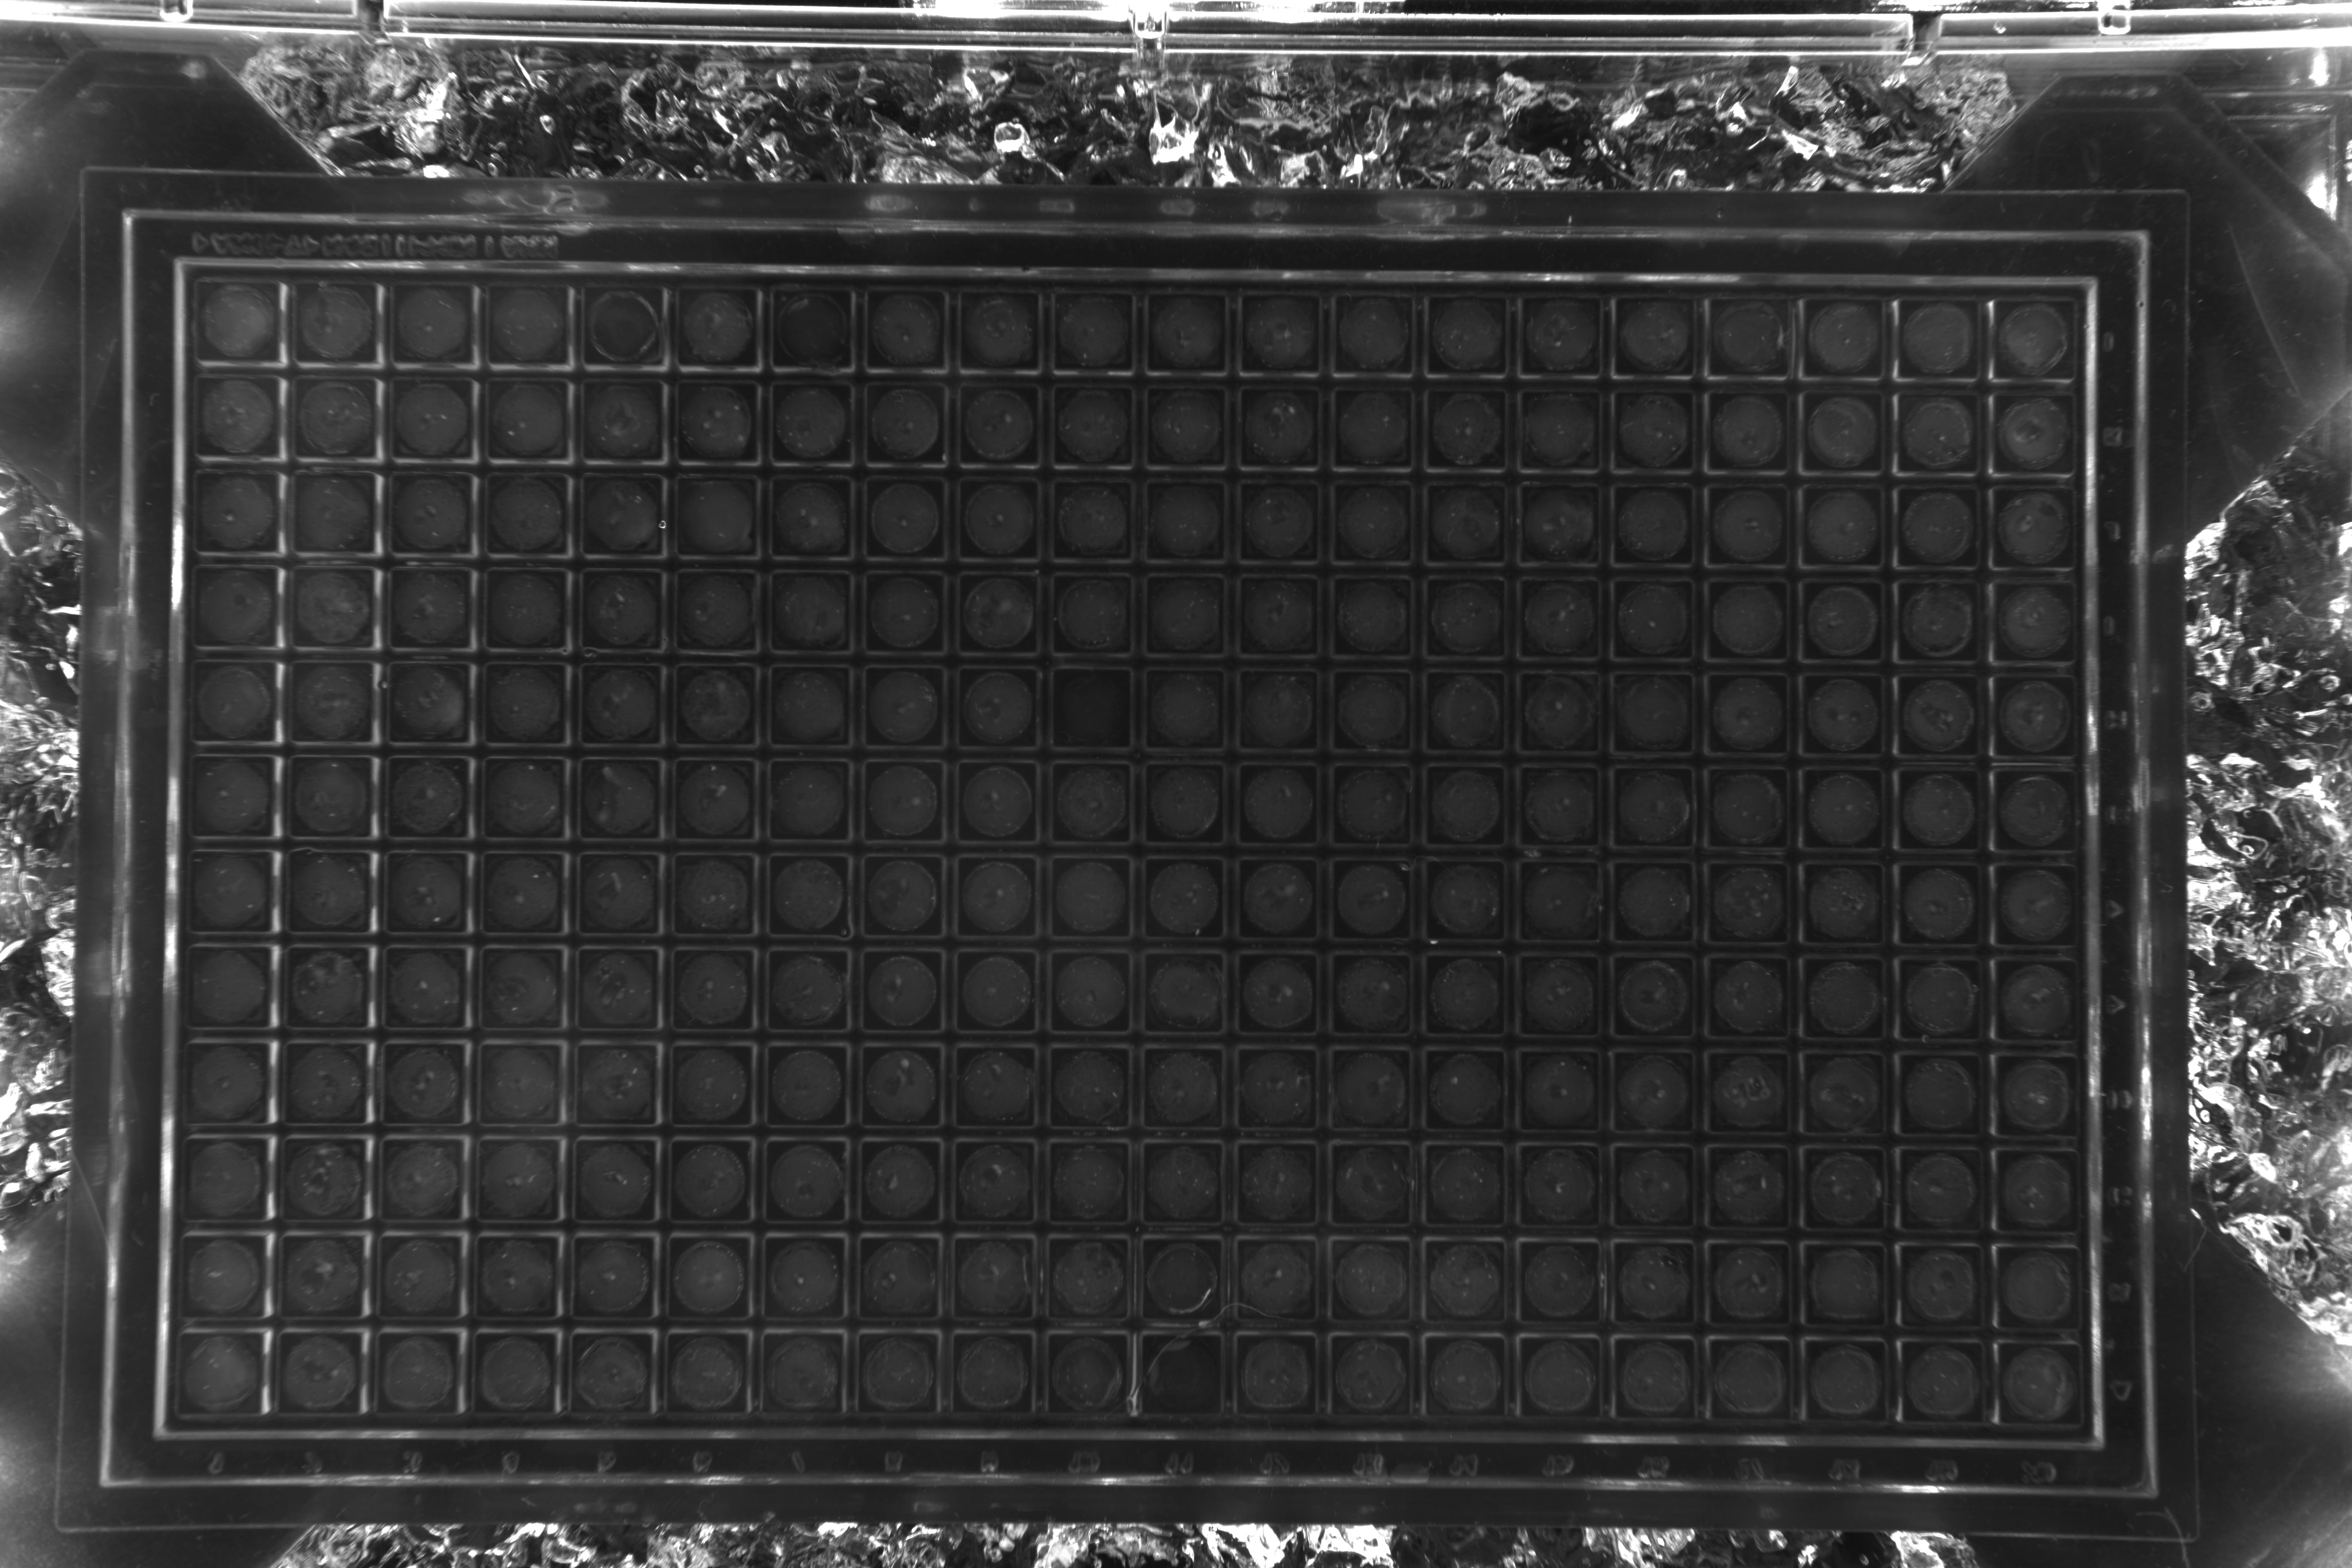WM_well: (399, 651, 488, 738), (495, 847, 584, 934), (982, 947, 1071, 1034), (294, 1143, 381, 1230), (303, 264, 390, 352), (303, 555, 390, 642), (401, 264, 488, 352), (887, 462, 975, 549), (887, 269, 975, 357), (983, 656, 1071, 744), (1078, 1337, 1165, 1424), (1176, 754, 1263, 842), (1176, 947, 1263, 1034), (1368, 269, 1456, 357), (1370, 754, 1458, 842), (1468, 1144, 1556, 1232), (1470, 1244, 1557, 1332), (1564, 850, 1652, 938), (1760, 658, 1848, 745), (1760, 754, 1848, 842), (1762, 950, 1850, 1038), (1766, 1347, 1853, 1435), (2060, 856, 2147, 943)
